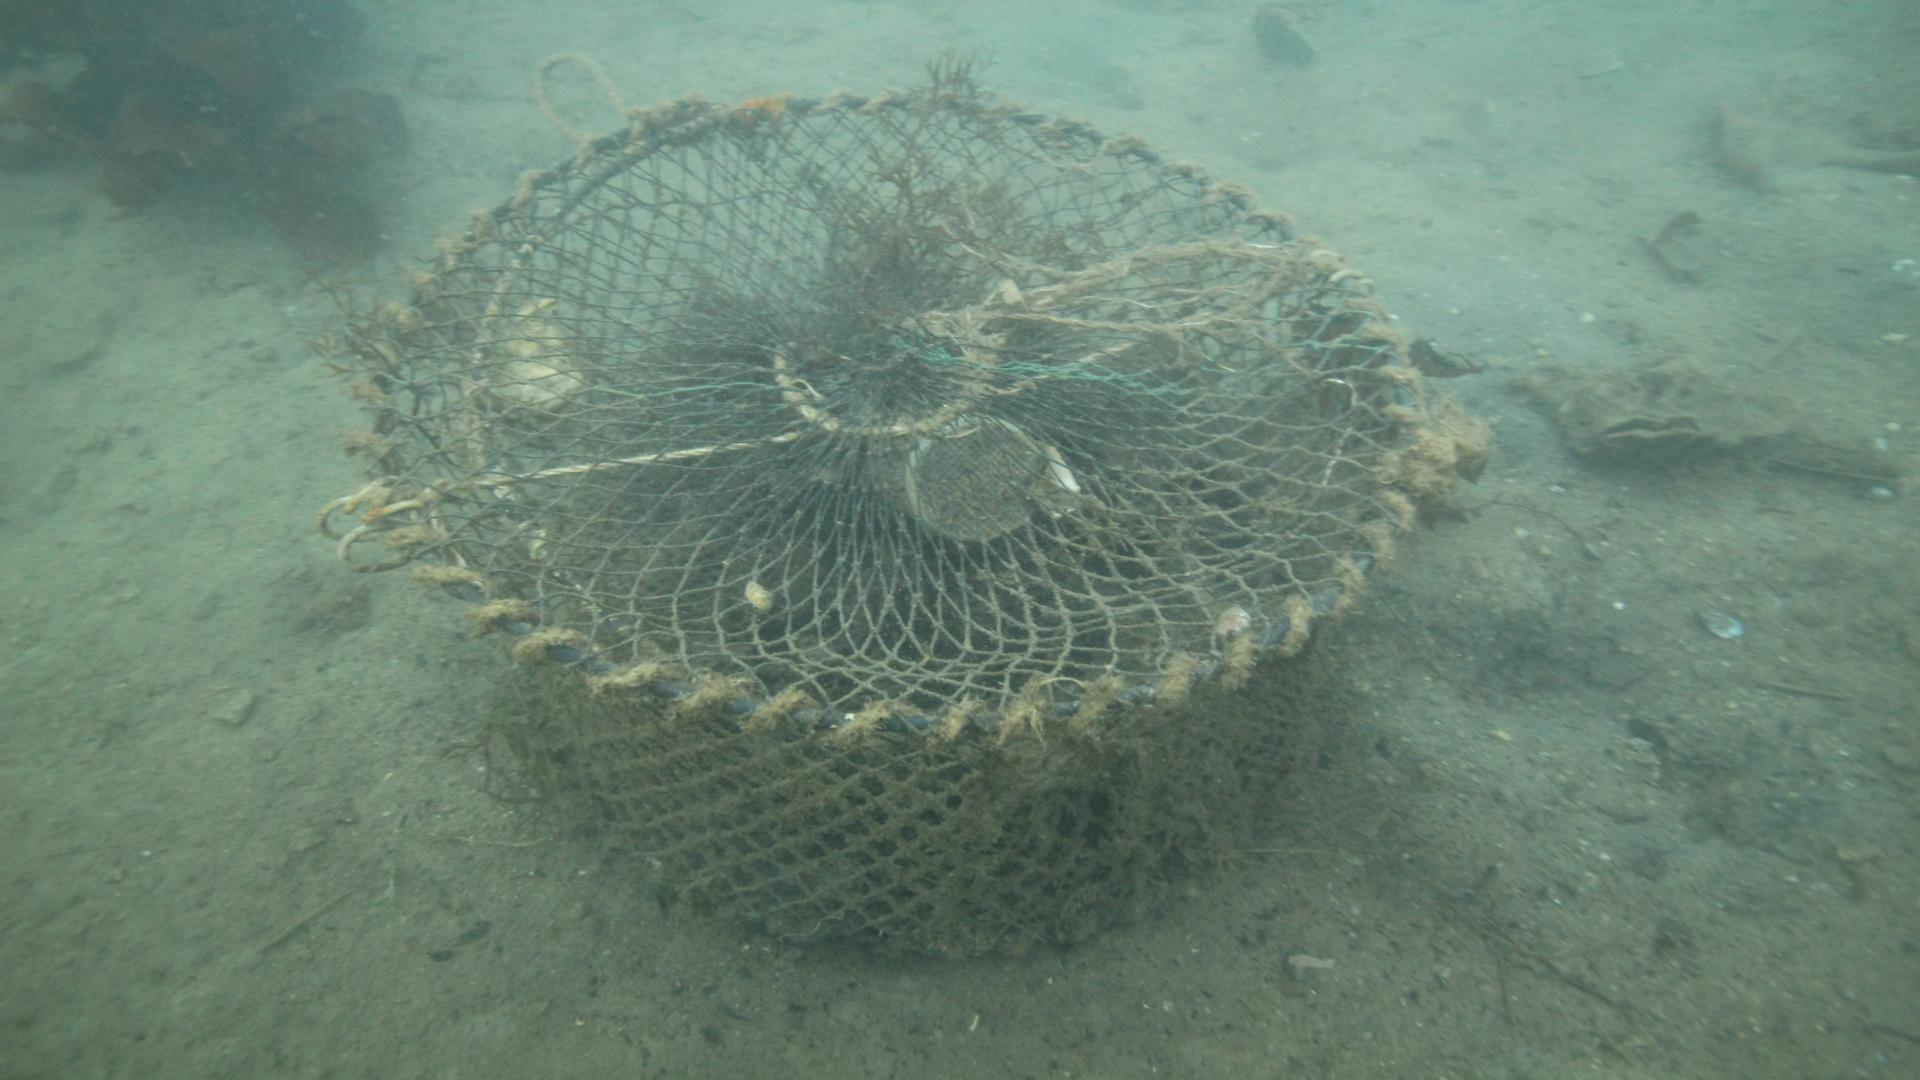circular fish trap: (342, 83, 1428, 960)
rope: (530, 47, 629, 142)
